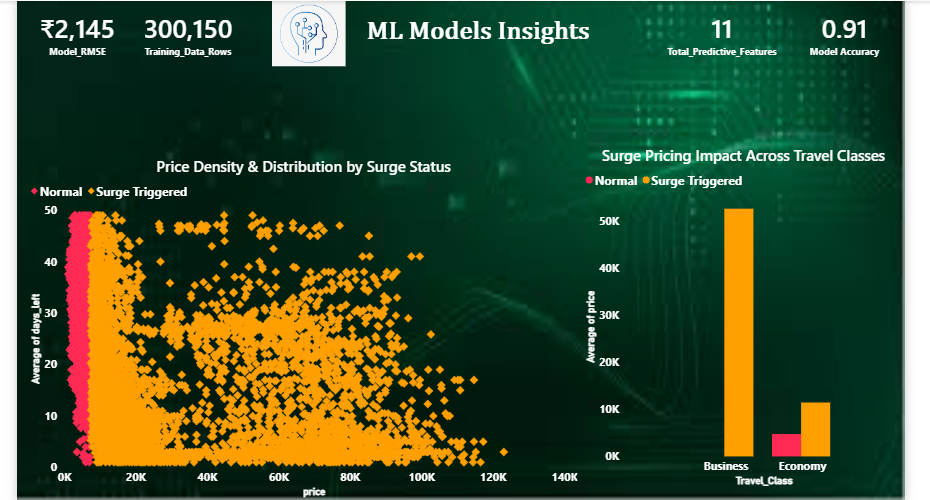

What the dashboard file says about the page in this screenshot:
{"tool":"powerbi","page":{"name":"Page 2","canvas":[1280,720],"ordinal":1},"visuals":[{"type":"textbox","box":[473.8,0,380.2,93.6],"z":0},{"type":"scatterChart","title":"Price Density & Distribution by Surge Status","fields":{"Series":["Clean_Flight_Dataset.Surge_Status"],"Y":["Avg(Clean_Flight_Dataset.days_left)"],"X":["Clean_Flight_Dataset.price"]},"box":[13,223.2,799.2,496.8],"z":1000},{"type":"lineClusteredColumnComboChart","title":"Surge Pricing Impact Across Travel Classes","fields":{"Y":["Avg(Clean_Flight_Dataset.price)"],"Category":["Clean_Flight_Dataset.Travel_Class"],"Series":["Clean_Flight_Dataset.Surge_Status"]},"box":[812.2,207.4,468,496.8],"z":2000},{"type":"card","fields":{"Values":["Clean_Flight_Dataset.Model Accuracy"]},"box":[1103,0,177.1,93.6],"z":2001},{"type":"card","fields":{"Values":["Clean_Flight_Dataset.Total_Predictive_Features"]},"box":[902.9,0,224.6,93.6],"z":2002},{"type":"card","fields":{"Values":["Clean_Flight_Dataset.Model_RMSE"]},"box":[13,0,148.3,93.6],"z":2004},{"type":"card","fields":{"Values":["Clean_Flight_Dataset.Training_Data_Rows"]},"box":[138.2,0,216,93.6],"z":2005},{"type":"image","box":[367.2,0,106.6,93.6],"z":2006}]}

Visuals, with their boxes on the page's 1280x720 design canvas (x1, y1, x2, y2). These are canvas units, not pixel positions in the 930x500 screenshot, which may show the page scaled, cropped or inside an application window:
textbox: [474,0,854,94]
"Price Density & Distribution by Surge Status" scatterChart: [13,223,812,720]
"Surge Pricing Impact Across Travel Classes" lineClusteredColumnComboChart: [812,207,1280,704]
card - Clean_Flight_Dataset.Model Accuracy: [1103,0,1280,94]
card - Clean_Flight_Dataset.Total_Predictive_Features: [903,0,1128,94]
card - Clean_Flight_Dataset.Model_RMSE: [13,0,161,94]
card - Clean_Flight_Dataset.Training_Data_Rows: [138,0,354,94]
image: [367,0,474,94]
